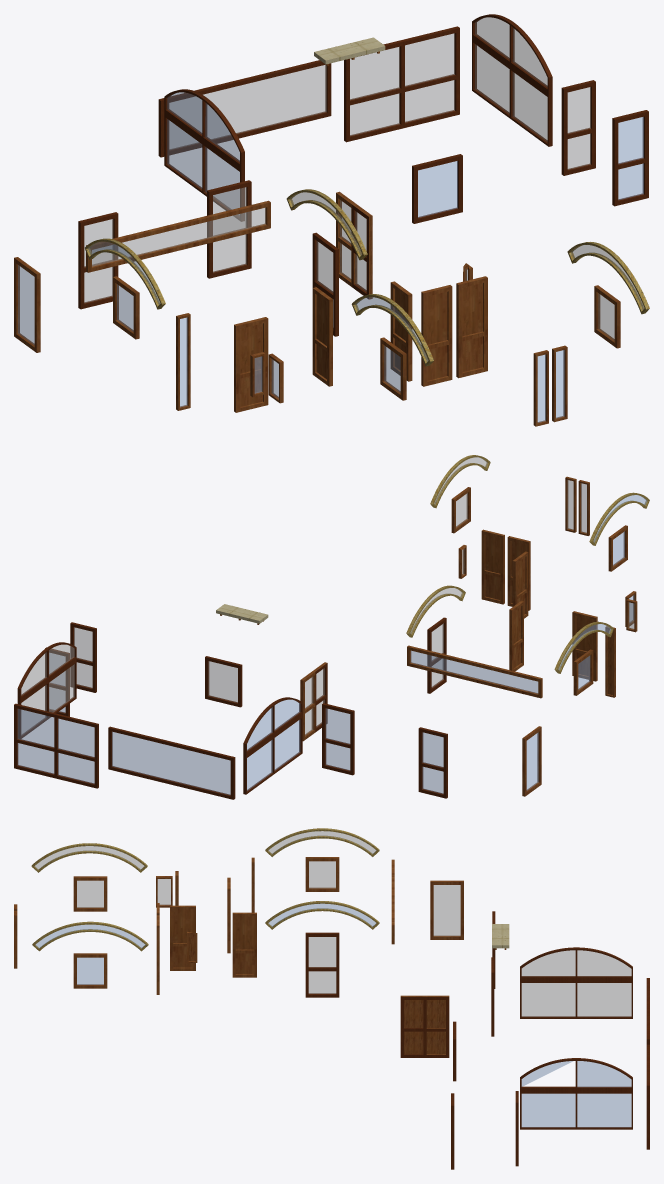
File: puertasyventanas.glb
The picture shows the model from 3 angles, top to bottom: view 1: azimuth 30°, elevation 25°; view 2: azimuth 150°, elevation 25°; view 3: azimuth 270°, elevation 25°; orthographic projection. The views are drawn at different scales.
Parts seen in each view (by area): view 1: 65660, 17770, 17786, 17795, 17772; view 2: 65660, 17770, 17786, 17772, 17795; view 3: 65660, 17770, 17786, 17772.
Part boxes in pixels (x1,y1,x2,y2): 65660: [14, 17, 644, 426]; 17770: [78, 14, 648, 336]; 17786: [85, 189, 649, 366]; 17795: [314, 37, 385, 64]; 17772: [316, 241, 333, 328]; 65660: [17, 457, 646, 796]; 17770: [14, 617, 447, 799]; 17786: [406, 455, 649, 673]; 17772: [431, 623, 443, 687]; 17795: [216, 604, 268, 623]; 65660: [14, 831, 631, 1127]; 17770: [305, 911, 649, 1169]; 17786: [31, 828, 379, 951]; 17772: [308, 937, 336, 993].
Bounding box in the file's own units: 16.41 × 4.94 × 19.58.
10 materials, 7 textured.
